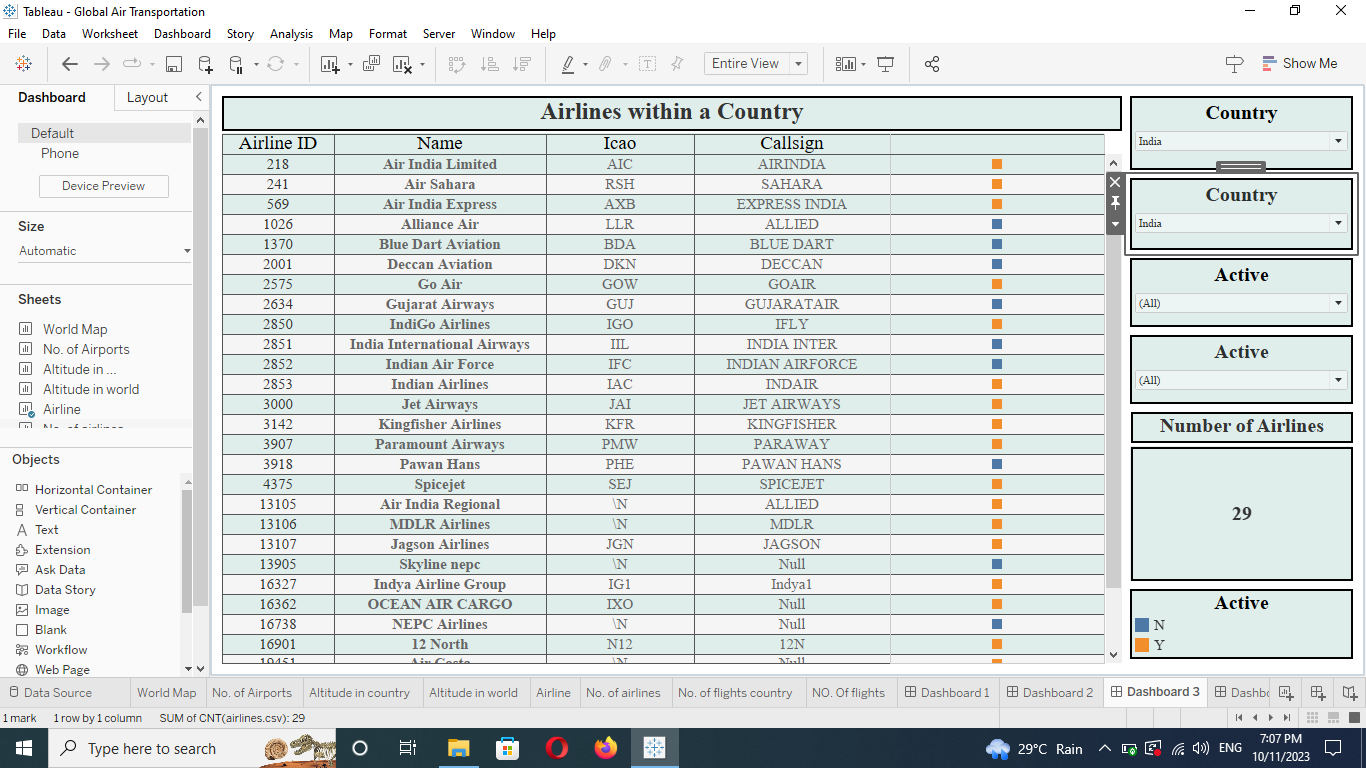

The page's visual inventory and layout, read from the dashboard file:
{"tool":"tableau","page":{"name":"Dashboard 3","canvas":[1000,1000],"units":"permille","ordinal":2},"visuals":[{"type":"worksheet","title":"Airline","mark":"Automatic","rows":["Airline ID","Name","ICAO","Callsign"],"box":[6.9,13.5,786.1,973]},{"type":"filter","title":"Airline","param":"[federated.0mnjfow1o9cxgx1b9vua4074vz4p].[none:Country:nk]","box":[793.1,13.5,200,138.5]},{"type":"filter","title":"No. of airlines","param":"[federated.0mnjfow1o9cxgx1b9vua4074vz4p].[none:Country:nk]","box":[793.1,152,200,135.1]},{"type":"filter","title":"Airline","param":"[federated.0mnjfow1o9cxgx1b9vua4074vz4p].[none:Active:nk]","box":[793.1,287.2,200,130.1]},{"type":"filter","title":"No. of airlines","param":"[federated.0mnjfow1o9cxgx1b9vua4074vz4p].[none:Active:nk]","box":[793.1,417.2,200,130.1]},{"type":"worksheet","title":"No. of airlines","mark":"Automatic","box":[793.1,547.3,200,299]},{"type":"legend","title":"Airline","param":"[federated.0mnjfow1o9cxgx1b9vua4074vz4p].[none:Active:nk]","box":[793.1,846.2,200,131.8]}]}

Visuals, with their boxes on the dashboard's canvas, which has no fixed pixel size, in thousandths of its width and height (x1, y1, x2, y2). These are canvas units, not pixel positions in the 1366x768 screenshot, which may show the page scaled, cropped or inside an application window:
"Airline" worksheet: BBox(7, 14, 793, 986)
"Airline" filter: BBox(793, 14, 993, 152)
"No. of airlines" filter: BBox(793, 152, 993, 287)
"Airline" filter: BBox(793, 287, 993, 417)
"No. of airlines" filter: BBox(793, 417, 993, 547)
"No. of airlines" worksheet: BBox(793, 547, 993, 846)
"Airline" legend: BBox(793, 846, 993, 978)
